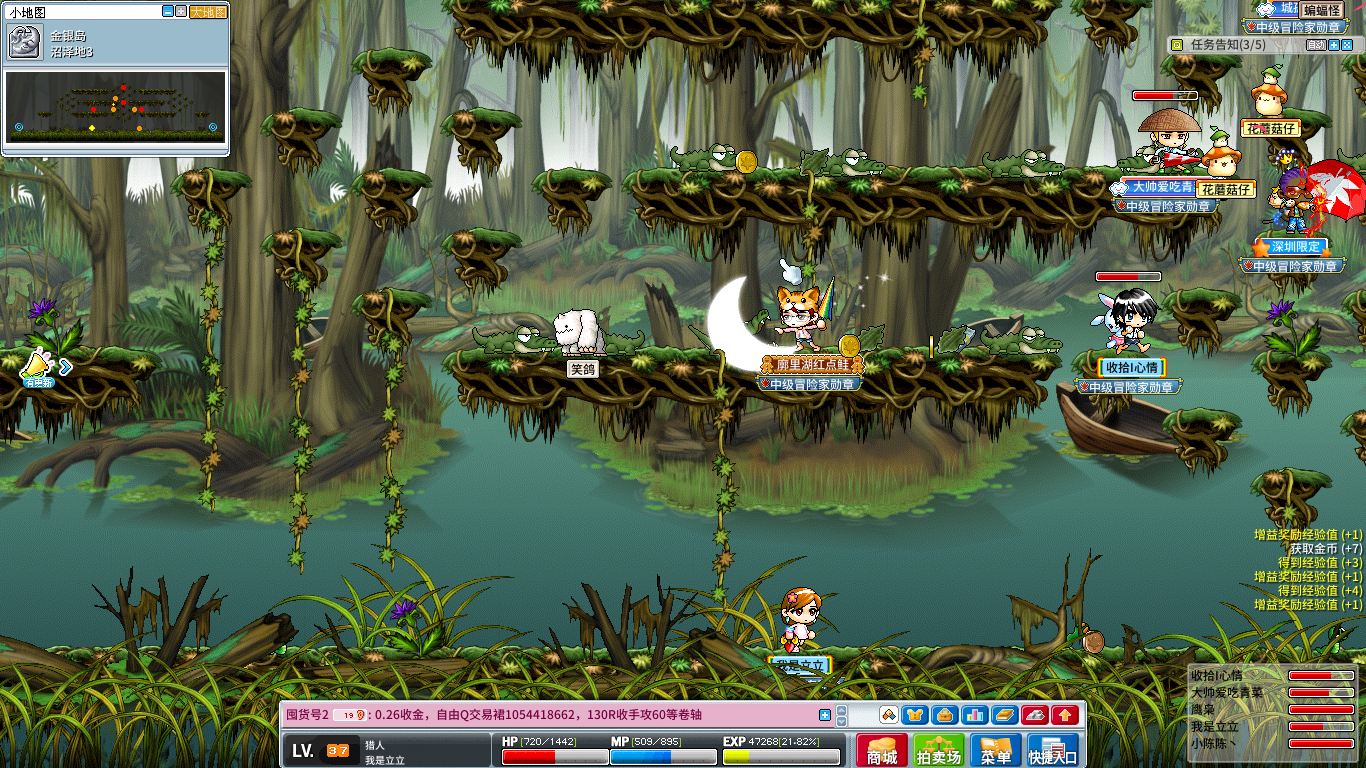monster: (1316, 626, 1348, 655)
